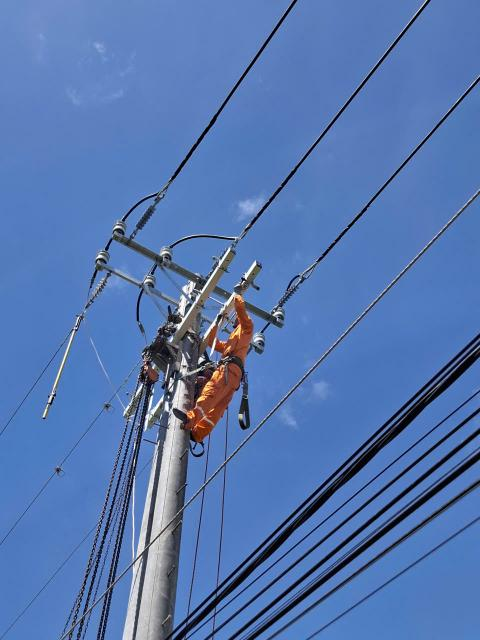gloves: (231, 281, 242, 295), (214, 311, 225, 323)
harness: (215, 354, 255, 374)
helmet: (191, 350, 217, 372)
shoes: (167, 405, 193, 425)
